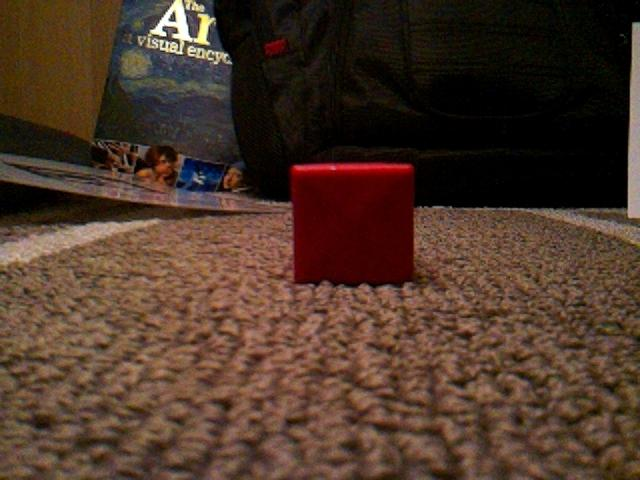red: (289, 161, 417, 288)
